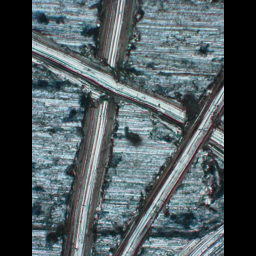d: (32, 24, 224, 167), (111, 65, 222, 256), (59, 1, 141, 256)
